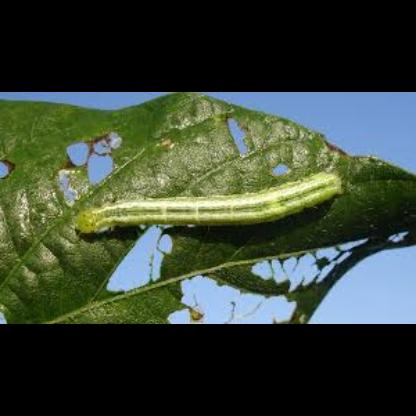agujero: (253, 233, 375, 292), (167, 275, 297, 323), (95, 228, 182, 292), (222, 117, 256, 157), (85, 155, 121, 185), (92, 130, 126, 156), (63, 138, 92, 168), (384, 226, 414, 244), (1, 154, 20, 182), (271, 164, 291, 174)
oruga: (66, 174, 346, 230)
